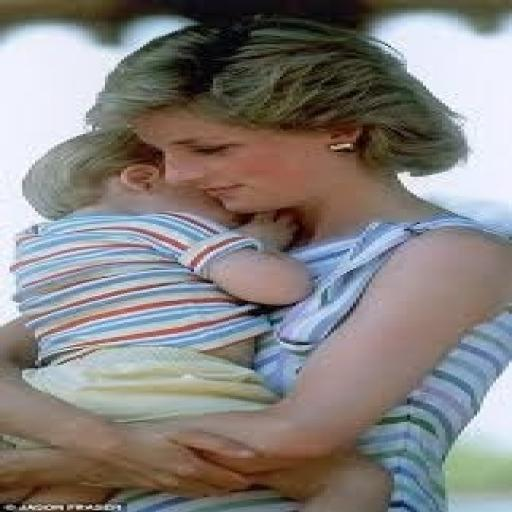hugging: (3, 15, 509, 510)
